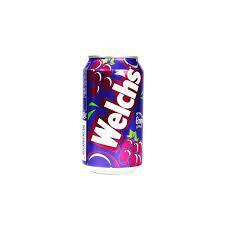welchs_grape: (78, 55, 147, 178)
